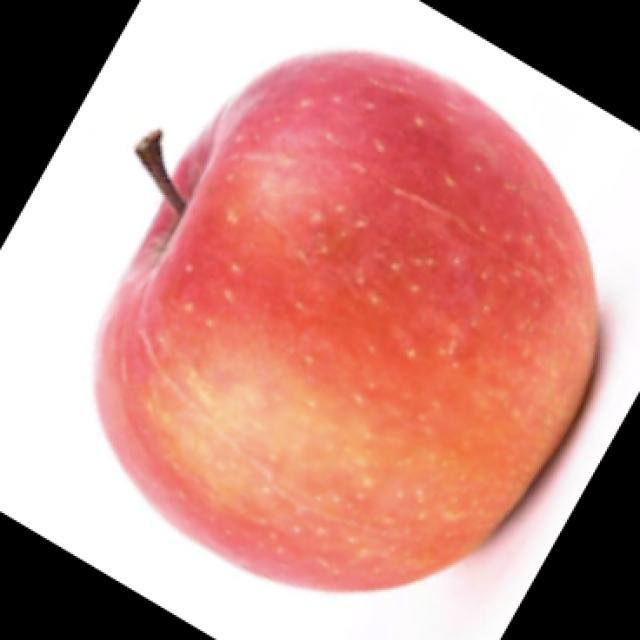Fresh Apple: (70, 47, 618, 588)
